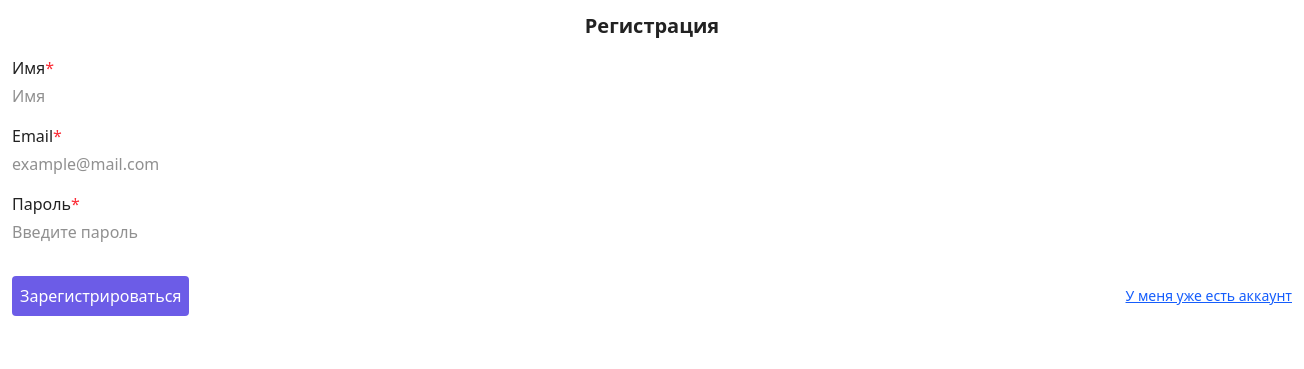
Test case: RegisterForm › ошибка: другая
Type "Test User" into the field with placeholder "Имя". click: x=652, y=96
box: [12,84,1292,108]
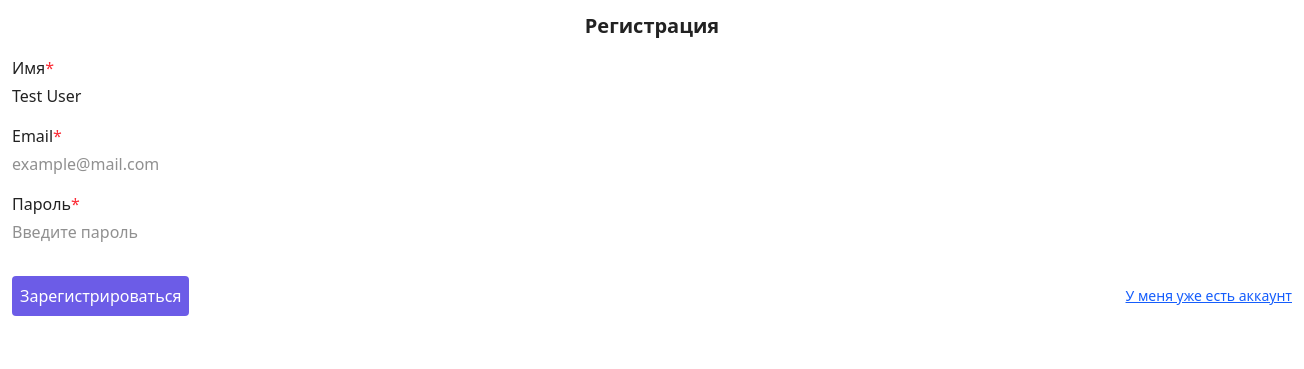
Type "test@mail.com" into the field with placeholder "example@mail.com". click: x=652, y=164
box: [12,152,1292,176]
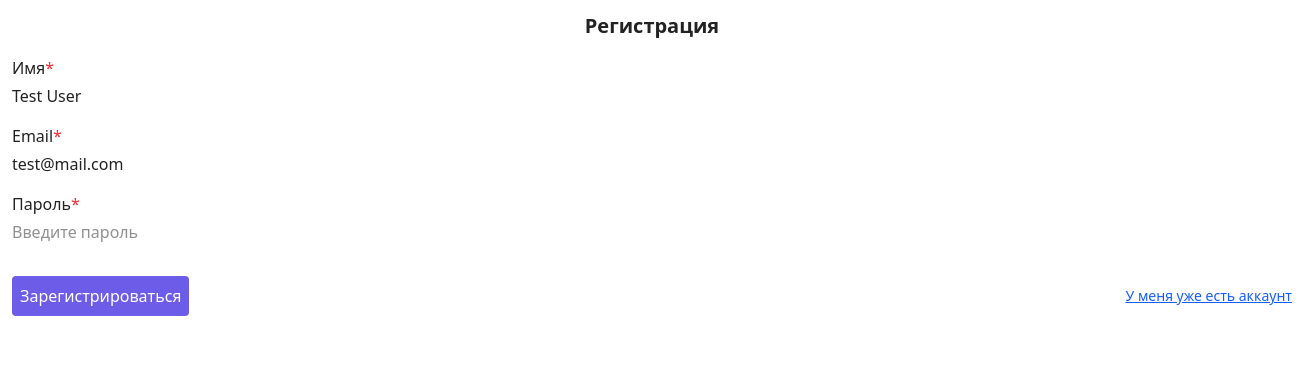
Type "123456" into the password field with placeholder "Введите пароль". click: x=652, y=232
box: [12,220,1292,244]
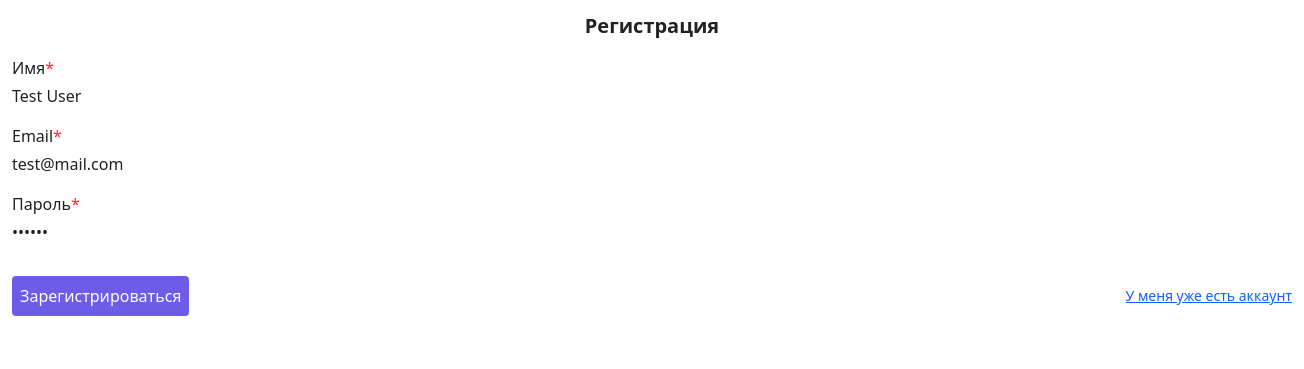
Click the button "Зарегистрироваться". click: x=101, y=296
box: [12,276,189,316]
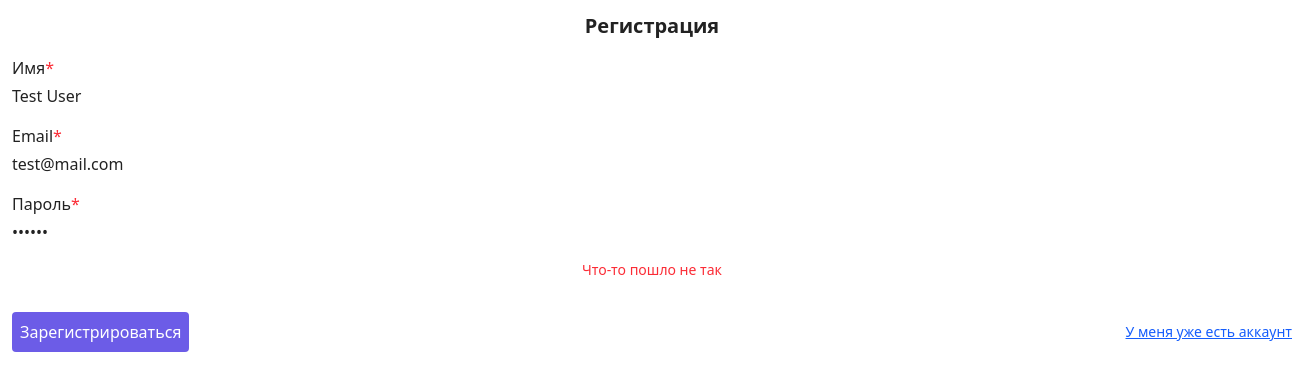
Expected: the text "Что-то пошло не так" is shown, [582,260,722,279]
